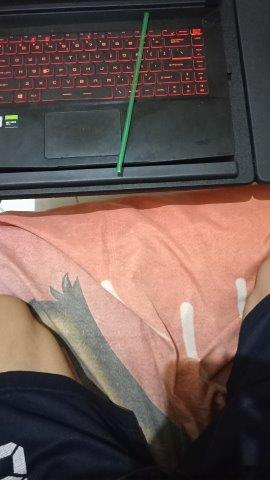sedotan: (117, 13, 150, 172)
